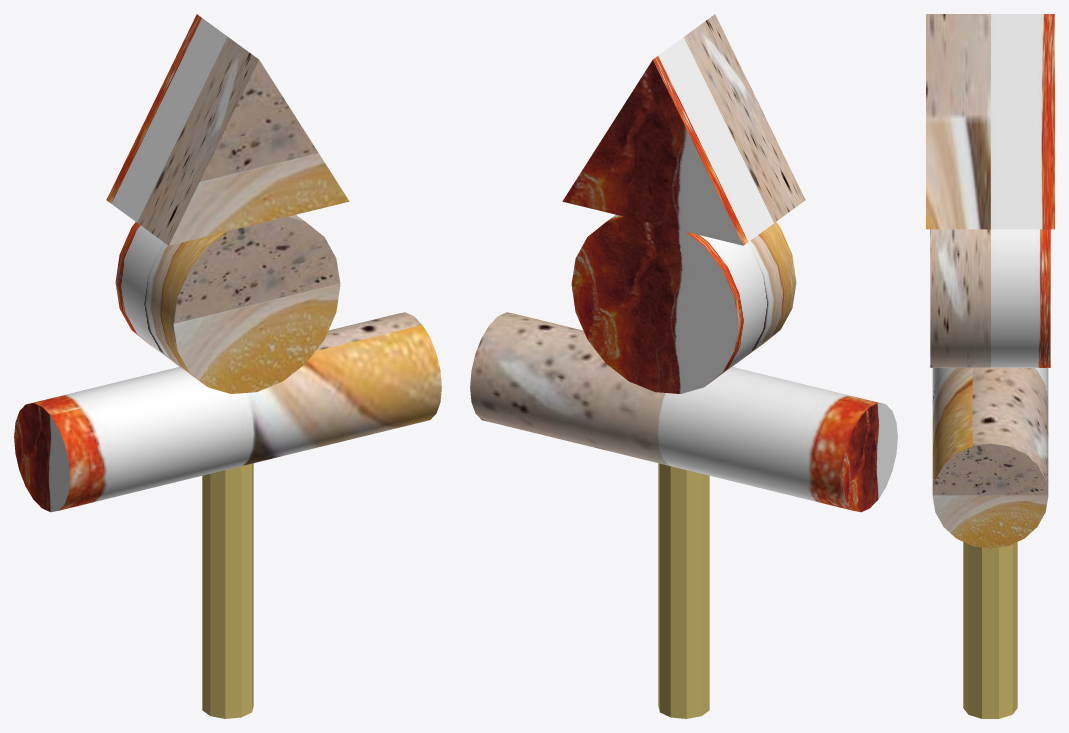
Rendered from Oden.fbx.
The picture shows the model from 3 angles, left to right: view 1: azimuth 30°, elevation 25°; view 2: azimuth 150°, elevation 25°; view 3: azimuth 270°, elevation 25°; orthographic projection. The views are drawn at different scales.
Parts seen in each view (by area): view 1: pCylinder9; view 2: pCylinder9; view 3: pCylinder9.
Boxes of the visible parts, x1,y1,x2,y2 form: pCylinder9: [14, 14, 441, 718]; pCylinder9: [470, 14, 897, 718]; pCylinder9: [926, 14, 1054, 718].
Bounding box in the file's own units: 3.26 × 5.62 × 0.9461.
2 materials, 1 textured.
